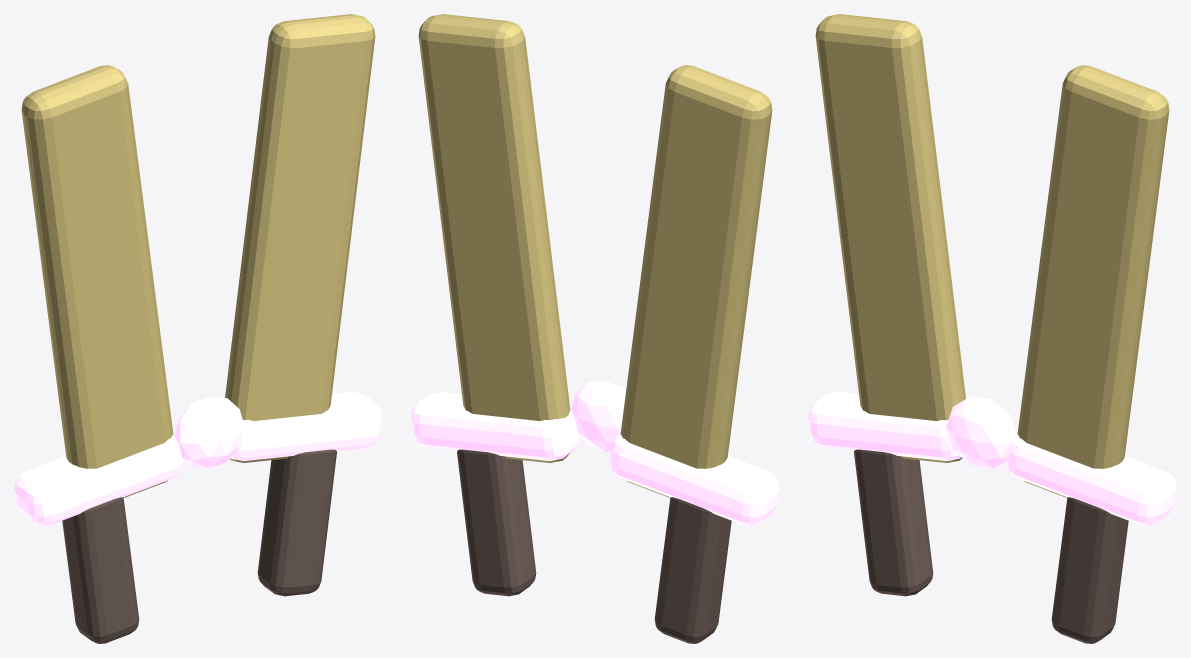
File: nightglass-twins.glb
3 views of the same model, side by side, from view 1: azimuth 30°, elevation 25°; view 2: azimuth 150°, elevation 25°; view 3: azimuth 330°, elevation 25° (orthographic).
Visible parts, largest first — view 1: DaggerBlade_1, DaggerBlade_-1, DaggerGrip_1, DaggerGrip_-1, DaggerGuard_-1, DaggerGuard_1, DaggerCenterGem; view 2: DaggerBlade_1, DaggerBlade_-1, DaggerGrip_1, DaggerGrip_-1, DaggerGuard_-1, DaggerGuard_1, DaggerCenterGem; view 3: DaggerBlade_-1, DaggerBlade_1, DaggerGrip_-1, DaggerGrip_1, DaggerGuard_1, DaggerGuard_-1, DaggerCenterGem.
Boxes of the visible parts, x1,y1,x2,y2 form: DaggerBlade_1: [225, 14, 375, 462]; DaggerBlade_-1: [21, 65, 173, 497]; DaggerGrip_1: [257, 449, 336, 596]; DaggerGrip_-1: [62, 497, 139, 643]; DaggerGuard_-1: [14, 433, 184, 525]; DaggerGuard_1: [230, 391, 382, 461]; DaggerCenterGem: [174, 397, 244, 468]; DaggerBlade_1: [418, 14, 570, 462]; DaggerBlade_-1: [620, 65, 772, 497]; DaggerGrip_1: [457, 449, 536, 596]; DaggerGrip_-1: [654, 497, 731, 643]; DaggerGuard_-1: [609, 433, 779, 525]; DaggerGuard_1: [411, 391, 580, 461]; DaggerCenterGem: [571, 381, 625, 452]; DaggerBlade_-1: [815, 14, 965, 462]; DaggerBlade_1: [1017, 65, 1169, 497]; DaggerGrip_-1: [854, 449, 933, 596]; DaggerGrip_1: [1051, 497, 1128, 643]; DaggerGuard_1: [1006, 433, 1176, 525]; DaggerGuard_-1: [808, 391, 961, 461]; DaggerCenterGem: [946, 396, 1016, 468].
Size of the model in its own units: 1.14 by 1.75 by 0.2.
